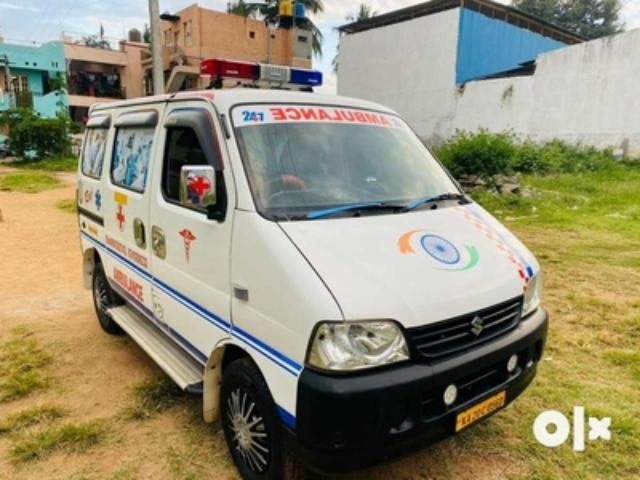ambulance: (78, 59, 547, 477)
